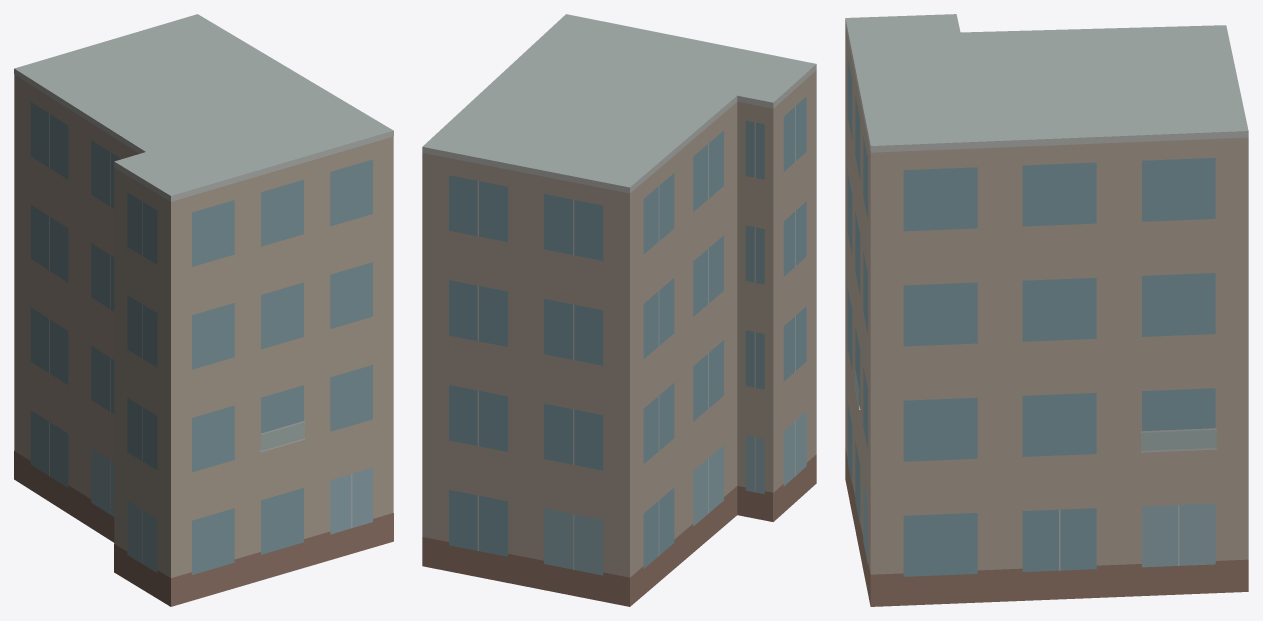
Rendered from survey-upis-32818128.glb.
3 views of the same model, side by side, from view 1: azimuth 30°, elevation 25°; view 2: azimuth 150°, elevation 25°; view 3: azimuth 270°, elevation 25° (orthographic). The views are drawn at different scales.
Parts seen in each view (by area): view 1: survey-upis-32818128.tmp; view 2: survey-upis-32818128.tmp; view 3: survey-upis-32818128.tmp.
Part boxes in pixels (x1=…): survey-upis-32818128.tmp: x1=14, y1=14, x2=393, y2=606; survey-upis-32818128.tmp: x1=422, y1=14, x2=816, y2=606; survey-upis-32818128.tmp: x1=845, y1=14, x2=1248, y2=606.
Bounding box in the file's own units: 10.52 × 17.1 × 13.57.
